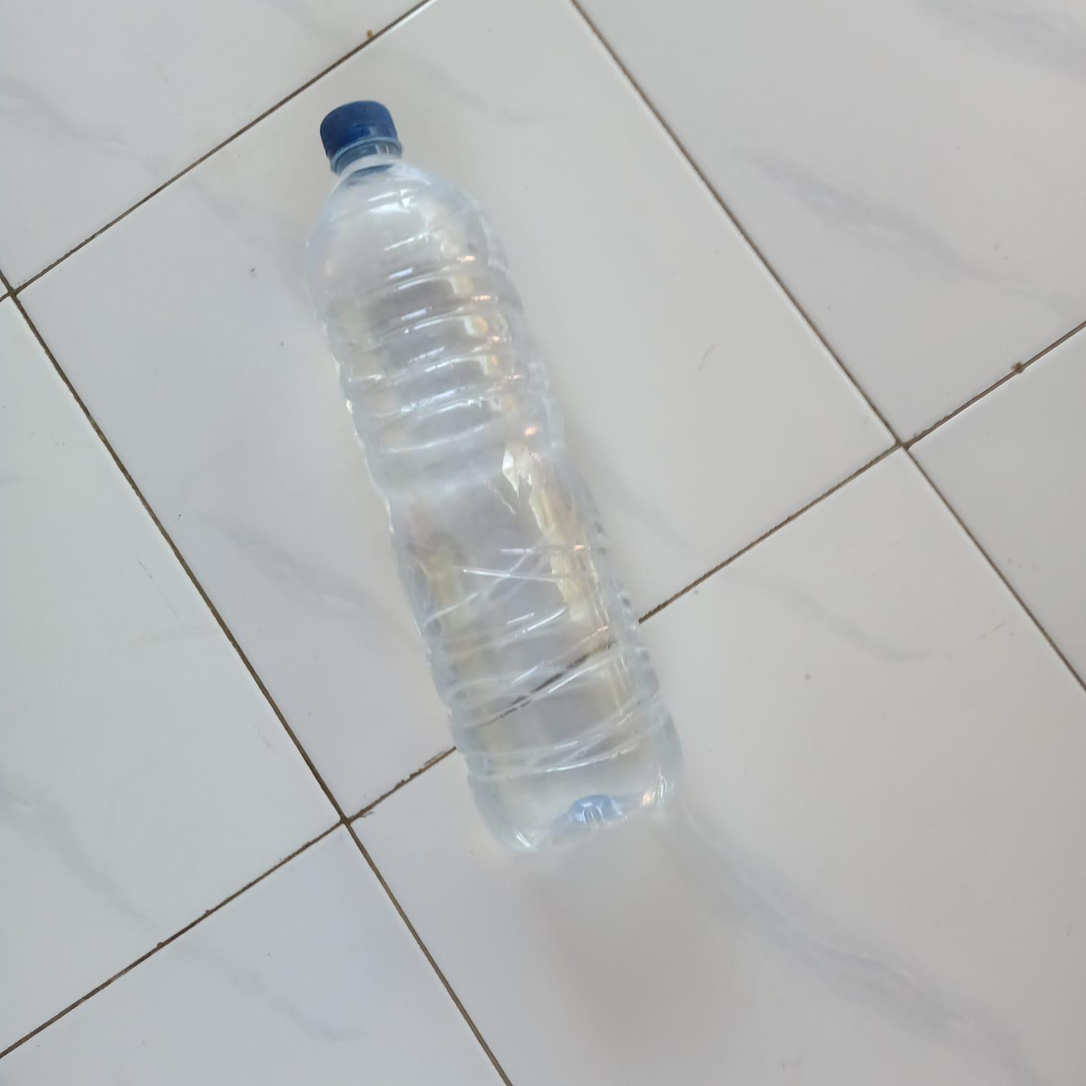Plastik: (314, 99, 685, 859)
